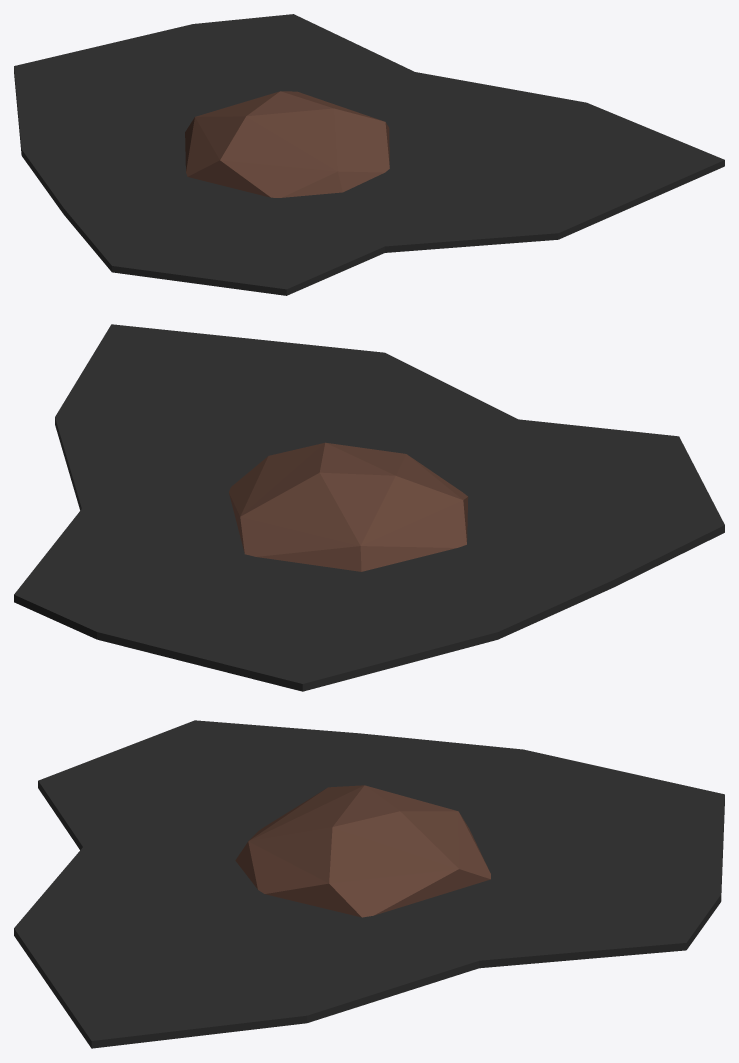
The model's file is quaternius-ultimate-food-egg-burned.glb.
3 renders of one model, top to bottom at view 1: azimuth 30°, elevation 25°; view 2: azimuth 150°, elevation 25°; view 3: azimuth 270°, elevation 25°, orthographic. The views are drawn at different scales.
Parts seen in each view (by area): view 1: Egg_Burned; view 2: Egg_Burned; view 3: Egg_Burned.
Part boxes in pixels (left/top/right/bottom): Egg_Burned: left=14, top=14, right=724, bottom=295; Egg_Burned: left=14, top=324, right=724, bottom=691; Egg_Burned: left=14, top=720, right=724, bottom=1048.
Size of the model in its own units: 1.19 by 0.1071 by 1.12.
